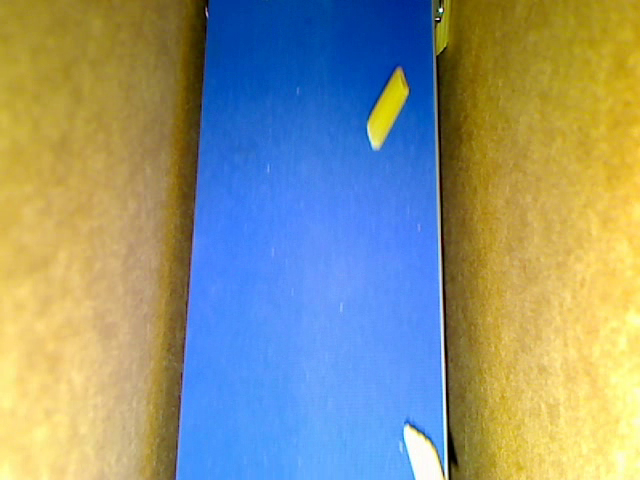penne: (362, 64, 407, 154), (403, 413, 439, 479), (434, 1, 453, 55)
